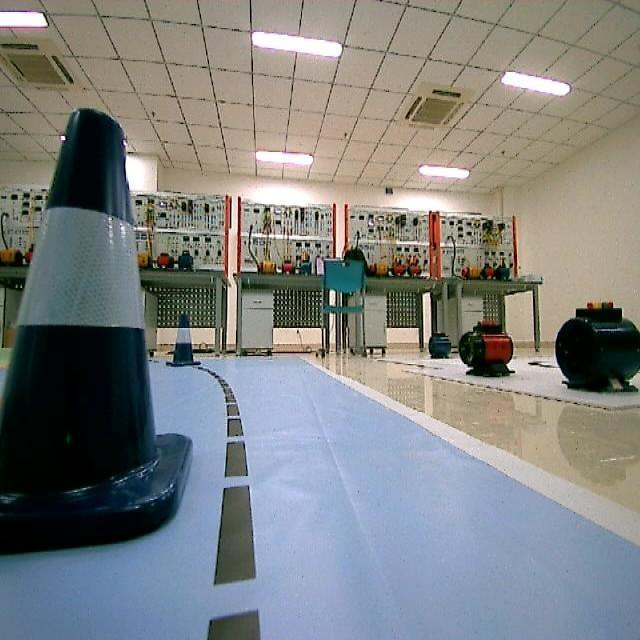obstacle: (0, 98, 187, 554), (165, 314, 205, 367)
